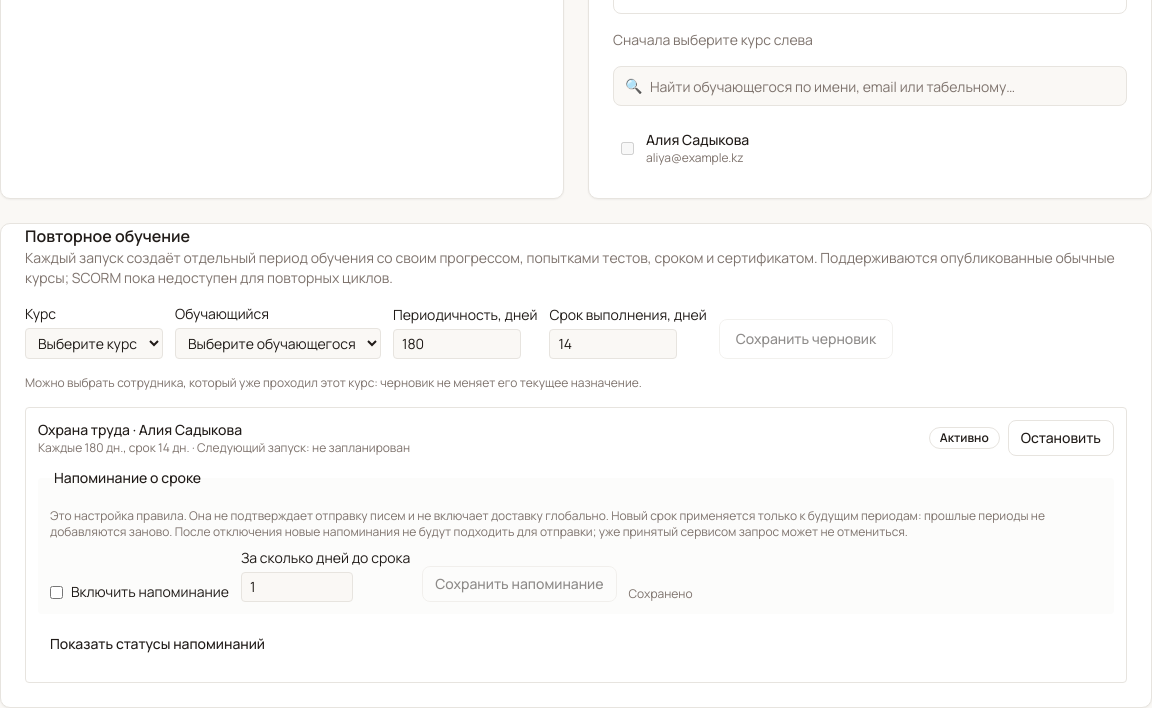
Test: recurring reminder settings › renders returned safe delivery states without implying global delivery is enabled
This screenshot has width=1152, height=708.
(page scrolled)
Click the button "Показать статусы напоминаний".
click(158, 644)  # box [38,626,277,662]
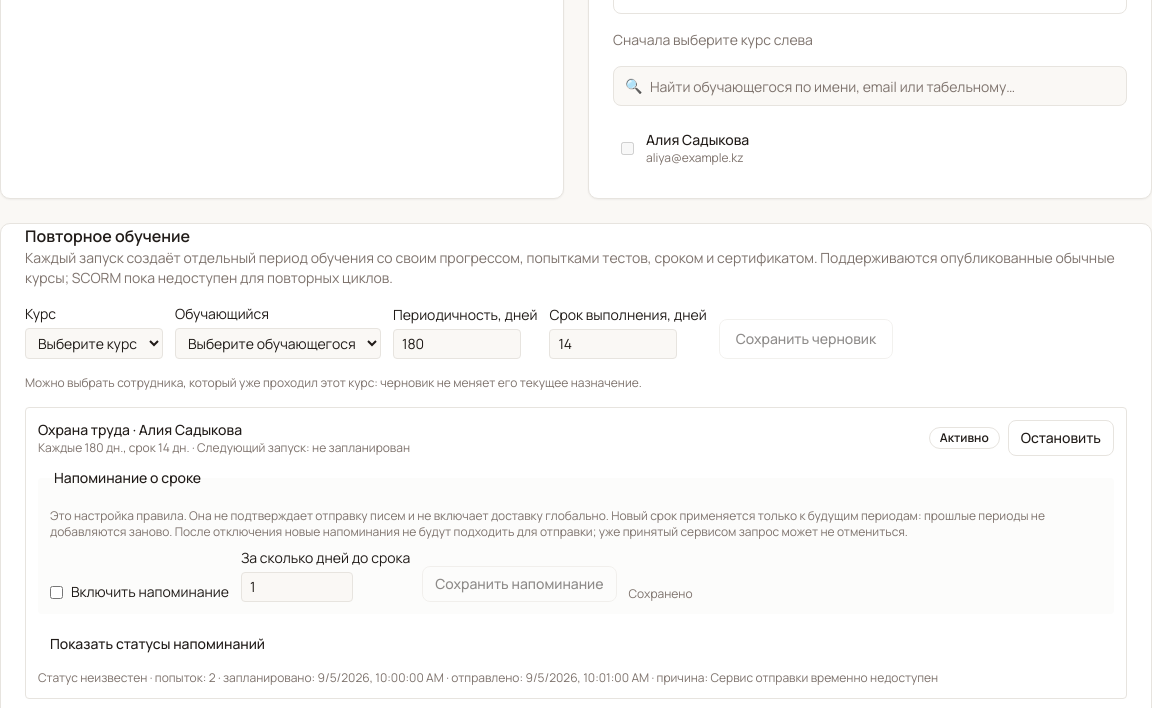
Expected: the list item "Статус неизвестен" is shown, [38,669,444,686]
Expected: the list item "Сервис отправки временно недоступен" is shown, [649,669,938,686]
Expected: the list item "отправлено" is shown, [444,669,649,686]
